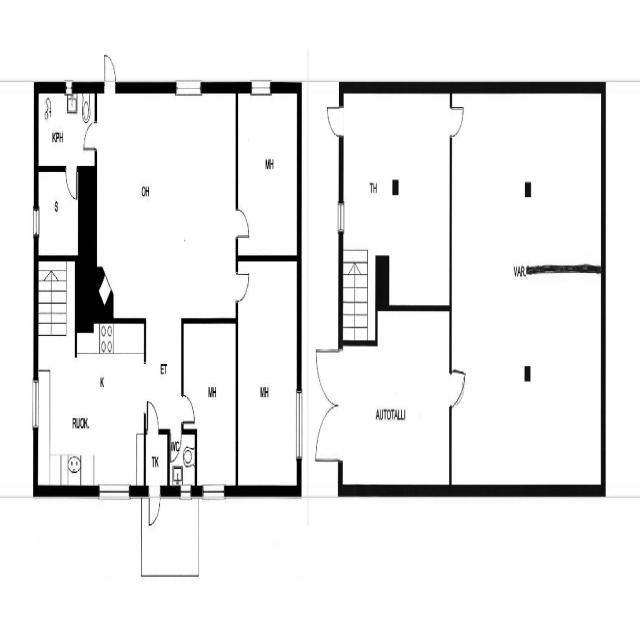door: (312, 335, 342, 477), (445, 352, 472, 418), (446, 95, 468, 142), (232, 202, 254, 244), (100, 48, 119, 93), (233, 266, 253, 308), (326, 100, 345, 142), (144, 394, 162, 438), (80, 118, 100, 155), (146, 486, 162, 530), (180, 390, 196, 430), (64, 163, 79, 205)
window: (298, 354, 336, 485), (293, 383, 305, 467), (95, 479, 134, 504), (172, 73, 205, 101), (29, 370, 41, 437), (247, 74, 275, 102), (200, 478, 228, 506), (336, 201, 346, 237), (32, 202, 41, 241), (178, 483, 193, 504), (63, 79, 76, 100)
zone: (448, 212, 605, 504), (93, 85, 236, 326), (452, 91, 601, 291), (341, 89, 452, 293), (338, 314, 453, 494), (34, 333, 143, 491), (237, 257, 300, 492), (237, 89, 300, 257), (185, 320, 236, 490), (36, 90, 86, 254), (37, 89, 95, 170), (37, 169, 79, 256), (168, 429, 196, 492)
